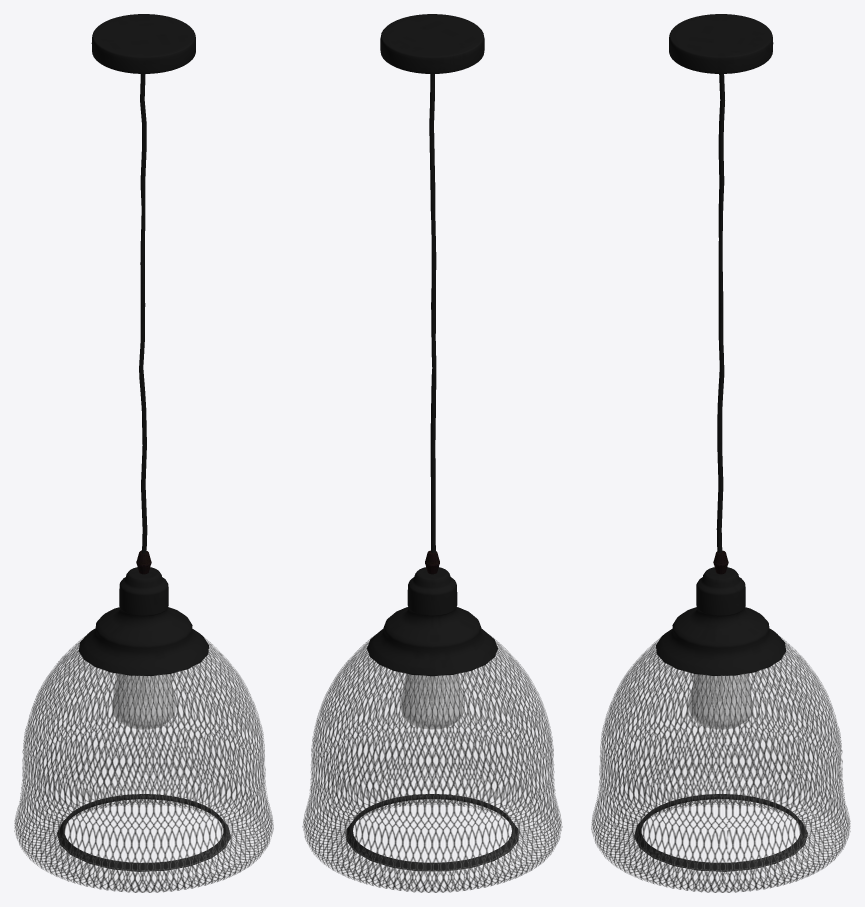
Rendered from abo-B075X12HYP.glb.
3 views of the same model, side by side, from view 1: azimuth 30°, elevation 25°; view 2: azimuth 150°, elevation 25°; view 3: azimuth 270°, elevation 25° (orthographic).
Bounding box in the file's own units: 0.285 × 0.982 × 0.285.
1 material, 1 textured.
